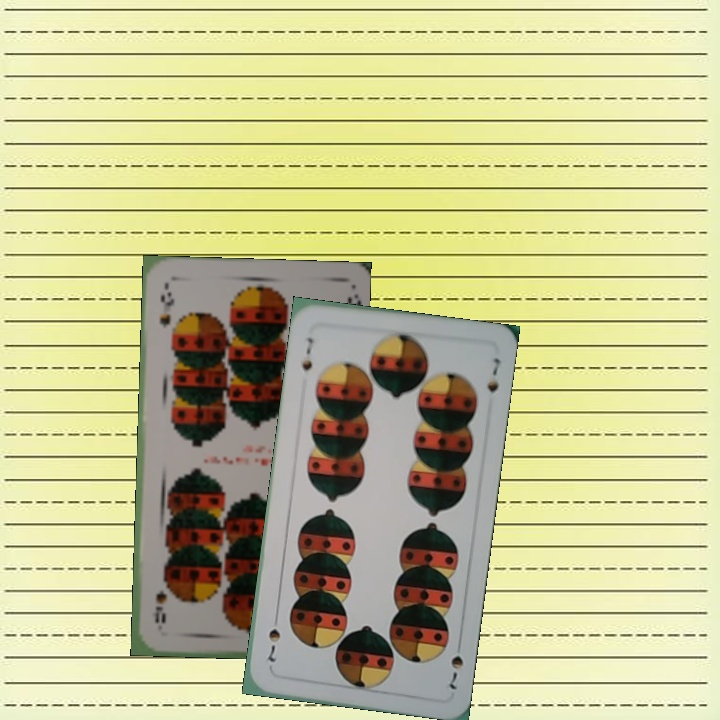S7: (444, 636, 466, 692), (297, 333, 316, 373)
S9: (156, 281, 176, 331)
